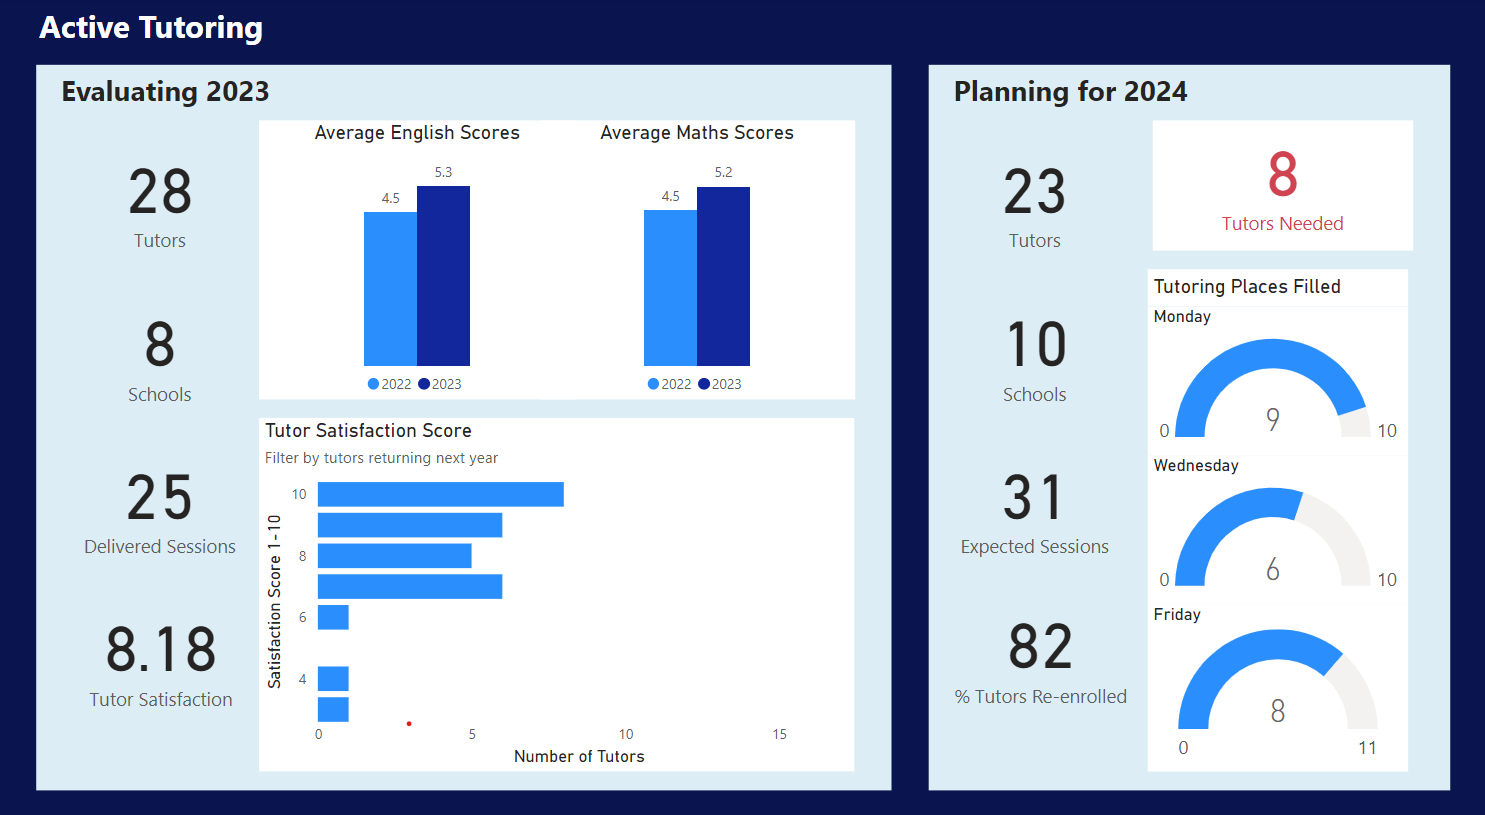

What the dashboard file says about the page in this screenshot:
{"tool":"powerbi","page":{"name":"Page 1","canvas":[1280,720],"ordinal":0},"visuals":[{"type":"shape","box":[768,48,32,672],"z":0},{"type":"clusteredColumnChart","title":"Average Maths Scores","fields":{"Y":["public results.ma_results_2022","public results.ma_results_2023"]},"box":[464,112,272,240],"z":1000},{"type":"card","fields":{"Values":["public tutors.first_name"]},"box":[63.8,101.2,150,150],"z":2000},{"type":"card","fields":{"Values":["public schools.name"]},"box":[63.8,232.8,150,150],"z":3000},{"type":"clusteredBarChart","title":"Tutor Satisfaction Score","fields":{"Category":["public tutors.satisfaction"],"Y":["public tutors.satisfaction"]},"box":[224,368,512,304],"z":4000},{"type":"textbox","box":[48,64,304,48],"z":5000},{"type":"textbox","box":[816,64,304,48],"z":6000},{"type":"card","fields":{"Values":["public schools.name"]},"box":[816,232.8,150,150],"z":7000},{"type":"card","fields":{"Values":["public tutors.first_name"]},"box":[816,101.2,150,150],"z":8000},{"type":"clusteredColumnChart","title":"Average English Scores","fields":{"Y":["public results.en_results_2022","public results.en_results_2023"]},"box":[224,112,272,240],"z":9000},{"type":"card","fields":{"Values":["public sessions.id"]},"box":[816,364.4,150,150],"z":10000},{"type":"card","fields":{"Values":["public sessions_2023.id"]},"box":[63.8,364.4,150,150],"z":11000},{"type":"card","fields":{"Values":["public results.Measure 2"]},"box":[992,112,224,112],"z":12000},{"type":"gauge","title":"Monday","fields":{"MaxValue":["public sessions.day"],"Y":["public tutors.preferred_day"]},"box":[988.1,272,224,128],"z":13000},{"type":"gauge","title":"Wednesday","fields":{"MaxValue":["public sessions.day"],"Y":["public tutors.preferred_day"]},"box":[988.1,400,224,128],"z":14000},{"type":"gauge","title":"Friday","fields":{"MaxValue":["public sessions.day"],"Y":["public tutors.preferred_day"]},"box":[988.1,528,224,144],"z":15000},{"type":"textbox","box":[0,0,1280,64],"z":16000},{"type":"shape","box":[0,48,32,672],"z":17000},{"type":"shape","box":[1248,48,32,672],"z":18000},{"type":"shape","box":[0,688,1280,32],"z":19000},{"type":"textbox","box":[988.1,240,224,32],"z":20000},{"type":"card","fields":{"Values":["public tutors.satisfaction"]},"box":[64,496,150,150],"z":21000},{"type":"card","fields":{"Values":["public tutors.Measure 3"]},"box":[816,496,160,144],"z":22000}]}

Visuals, with their boxes in screenshot pixels (x1, y1, x2, y2), scaled from the page's 1280x720 canvas onto the 1485x815 screenshot:
shape: l=891, t=54, r=928, b=814
"Average Maths Scores" clusteredColumnChart: l=538, t=127, r=854, b=398
card - public tutors.first_name: l=74, t=115, r=248, b=284
card - public schools.name: l=74, t=264, r=248, b=433
"Tutor Satisfaction Score" clusteredBarChart: l=260, t=417, r=854, b=761
textbox: l=56, t=72, r=408, b=127
textbox: l=947, t=72, r=1299, b=127
card - public schools.name: l=947, t=264, r=1121, b=433
card - public tutors.first_name: l=947, t=115, r=1121, b=284
"Average English Scores" clusteredColumnChart: l=260, t=127, r=575, b=398
card - public sessions.id: l=947, t=412, r=1121, b=582
card - public sessions_2023.id: l=74, t=412, r=248, b=582
card - public results.Measure 2: l=1151, t=127, r=1411, b=254
"Monday" gauge: l=1146, t=308, r=1406, b=453
"Wednesday" gauge: l=1146, t=453, r=1406, b=598
"Friday" gauge: l=1146, t=598, r=1406, b=761
textbox: l=0, t=0, r=1484, b=72
shape: l=0, t=54, r=37, b=814
shape: l=1448, t=54, r=1484, b=814
shape: l=0, t=779, r=1484, b=814
textbox: l=1146, t=272, r=1406, b=308
card - public tutors.satisfaction: l=74, t=561, r=248, b=731
card - public tutors.Measure 3: l=947, t=561, r=1132, b=724
